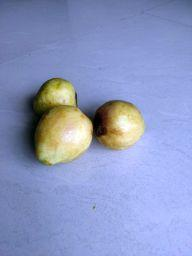guava: (33, 104, 93, 168), (94, 96, 146, 151), (30, 75, 81, 118)
